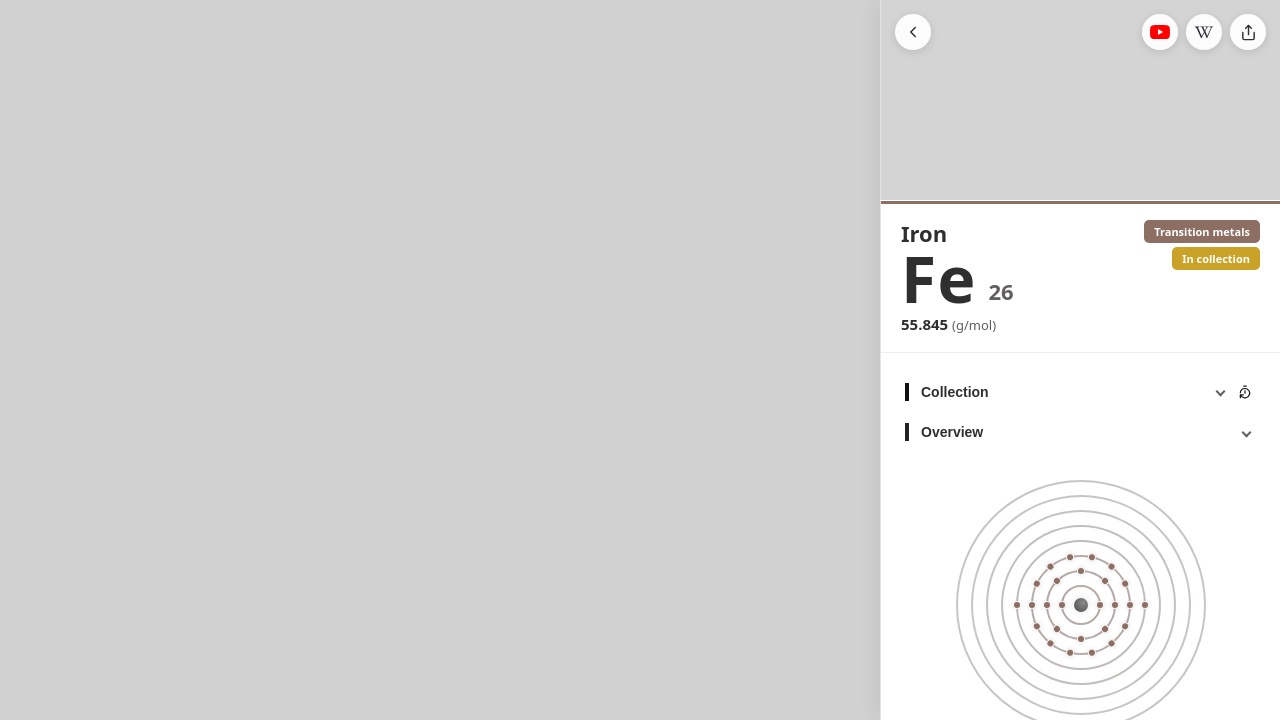
Test case: ElementSidebar › toggles a section collapsed state via CollapsibleSection, in both directions
Click the button with class "collapsible-section__title" showing "Collection" at (955, 392), box x1=905 y1=383 x2=1230 y2=401
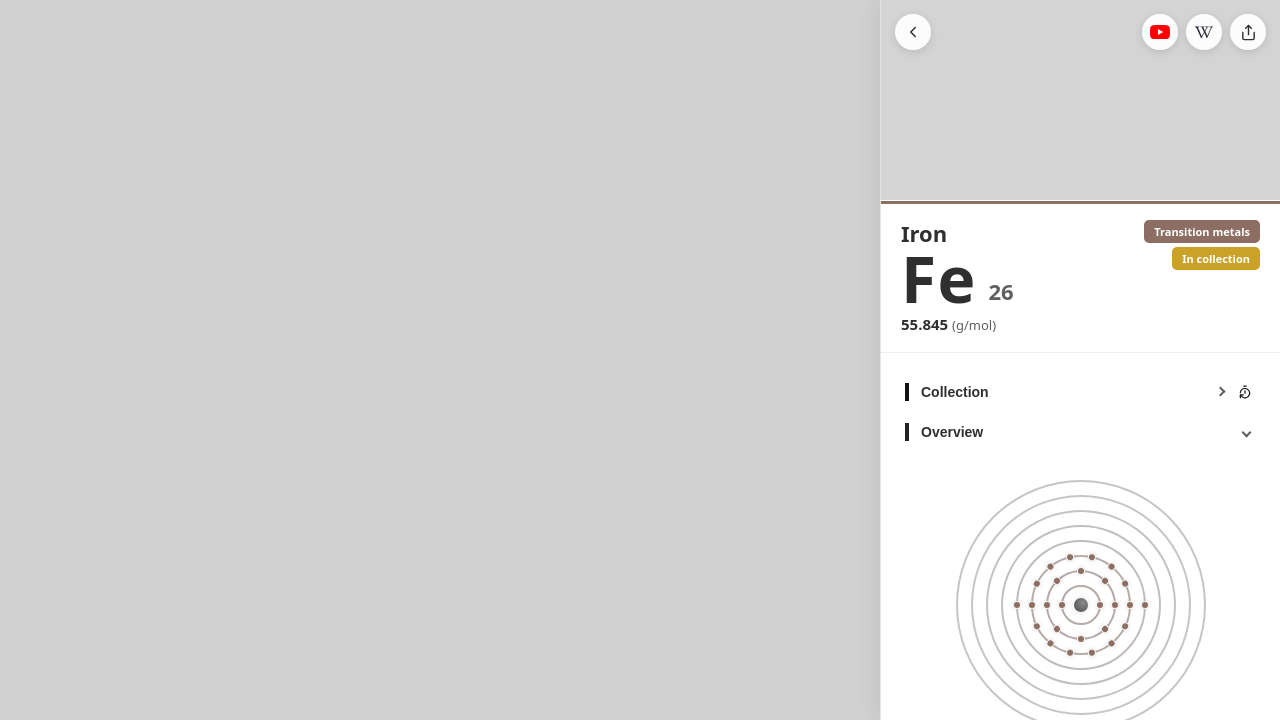
Check: the button with class "collapsible-section__title" is collapsed
Click the button with class "collapsible-section__title" showing "Collection" at (955, 392), box x1=905 y1=383 x2=1230 y2=401
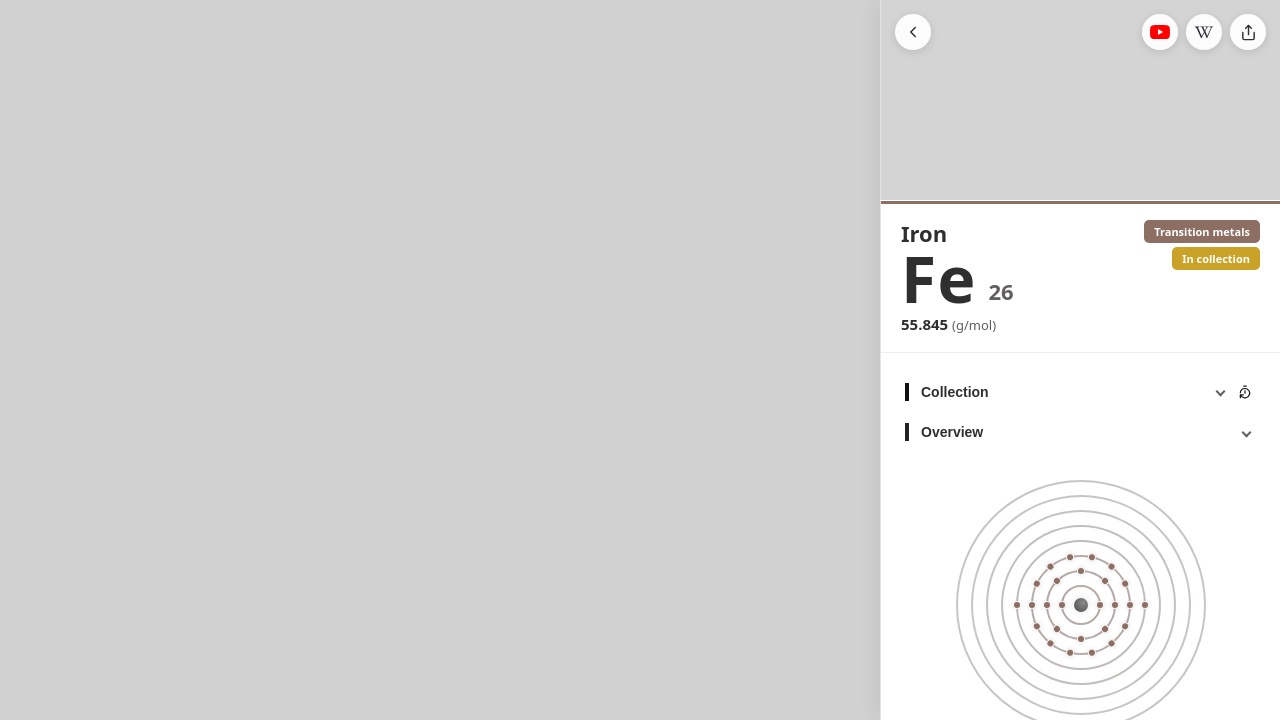
Check: the button with class "collapsible-section__title" is expanded, box x1=905 y1=383 x2=1230 y2=401
Click the button with class "collapsible-section__title" showing "Overview" at (952, 432), box x1=905 y1=423 x2=1256 y2=441
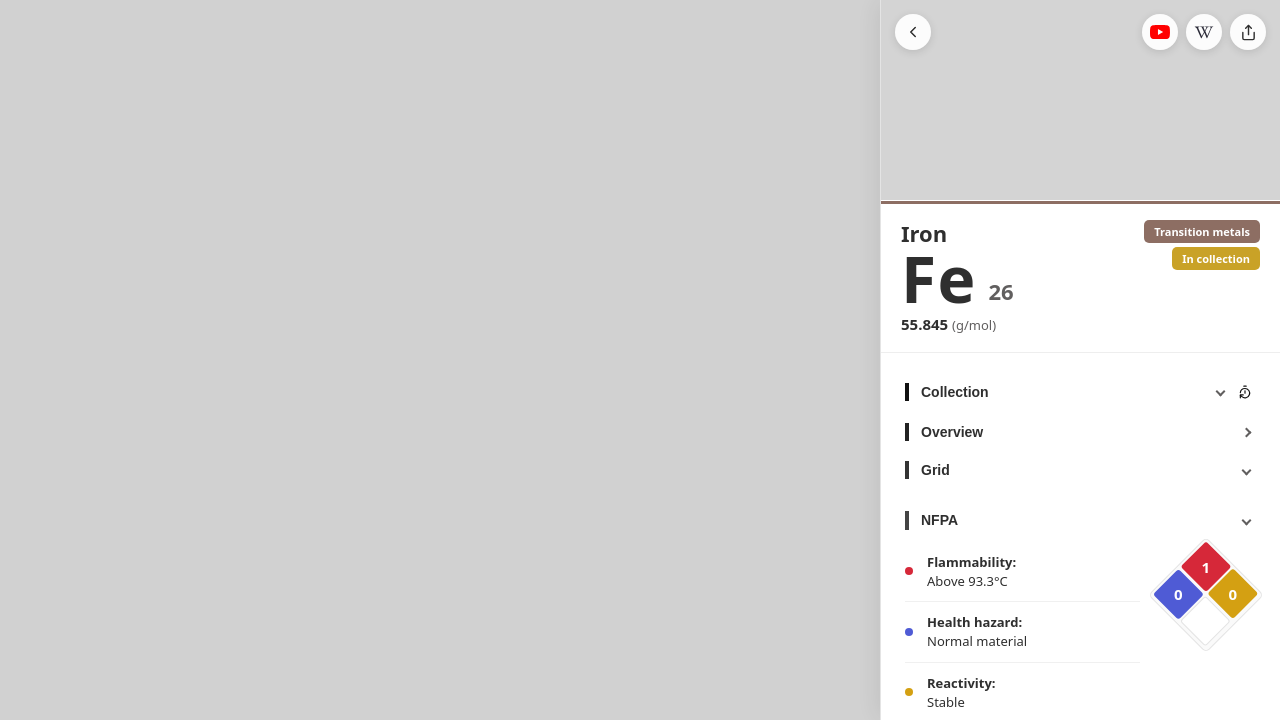
Check: the button with class "collapsible-section__title" is collapsed, box x1=905 y1=423 x2=1256 y2=441
